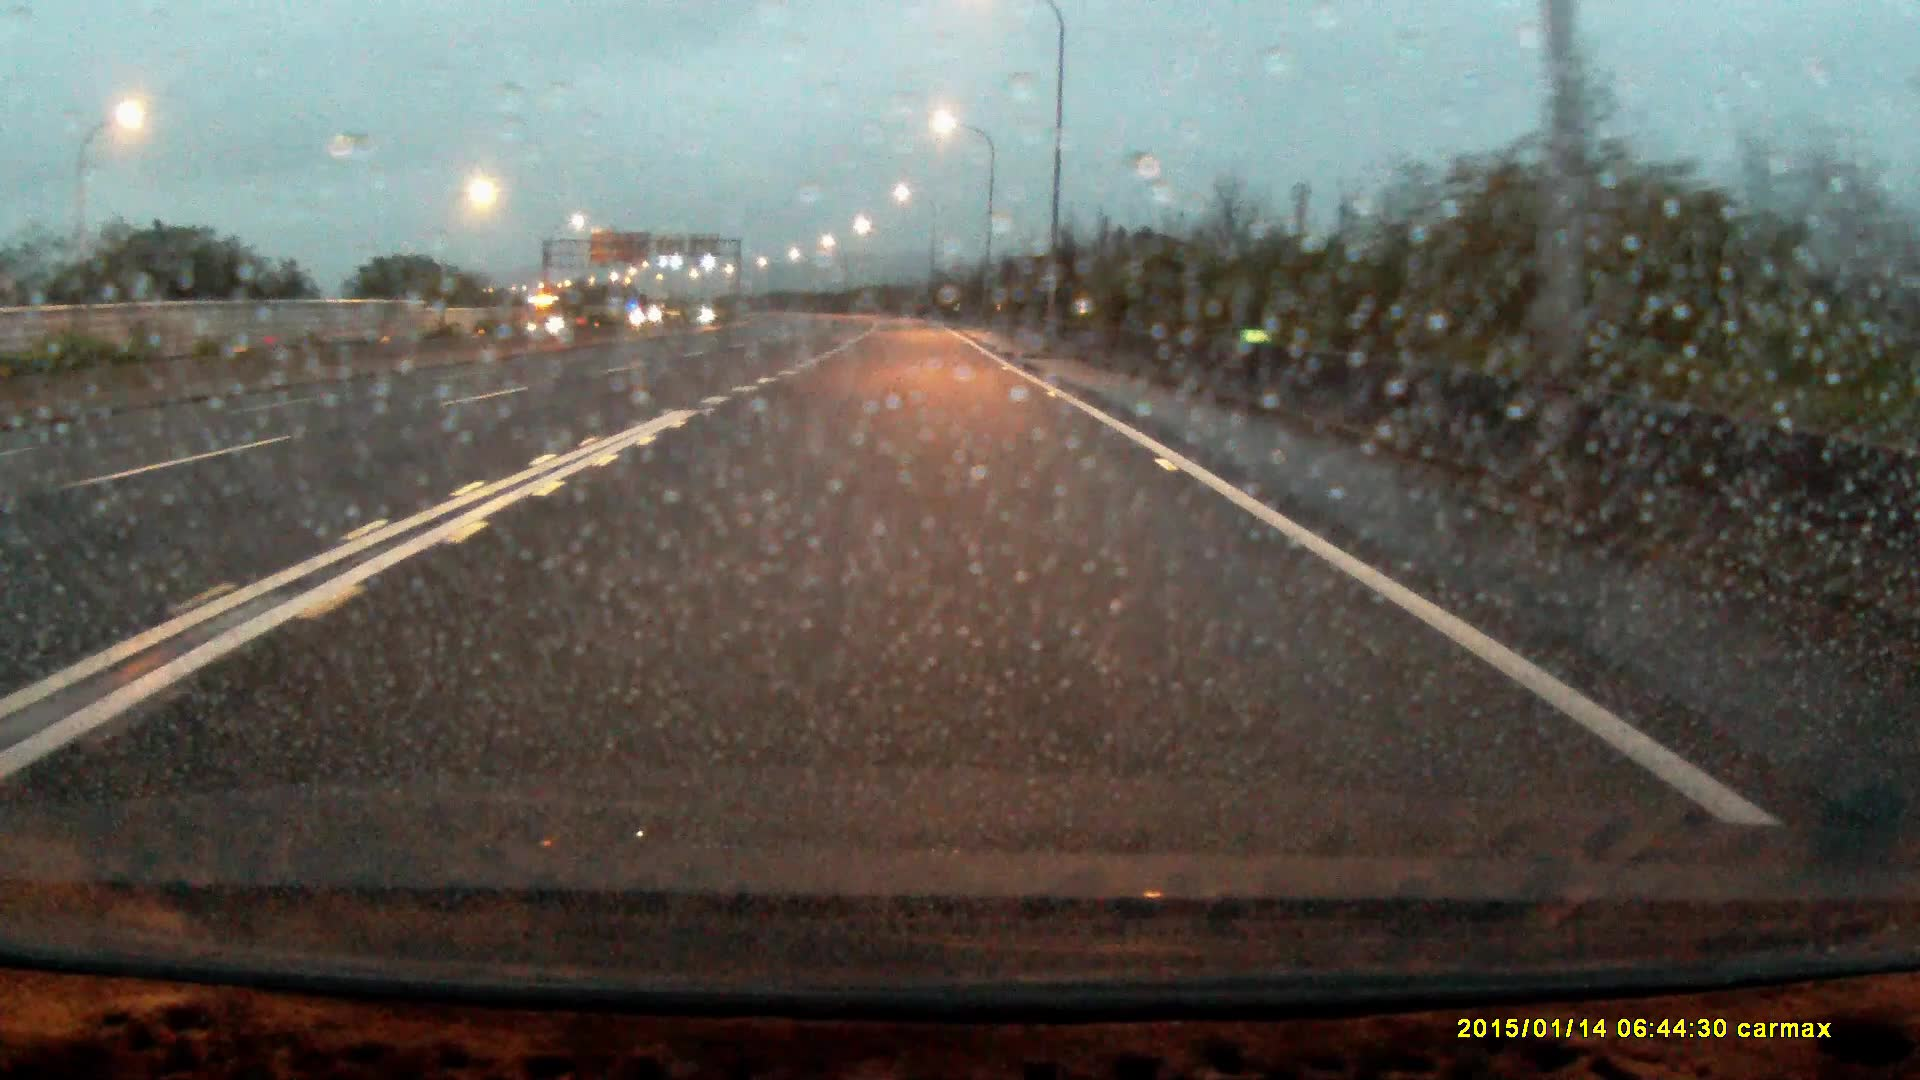vehicle: (525, 297, 589, 345)
